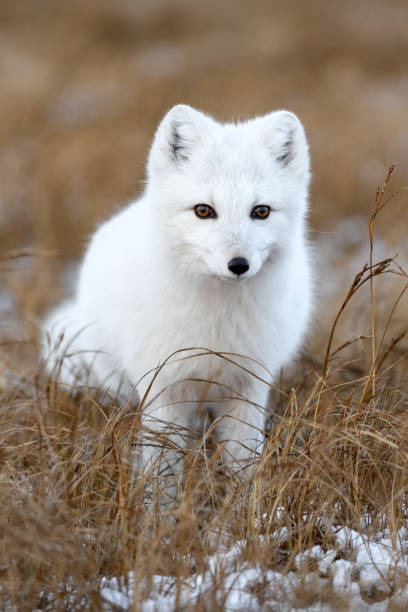arcticfox: (158, 126, 316, 328)
